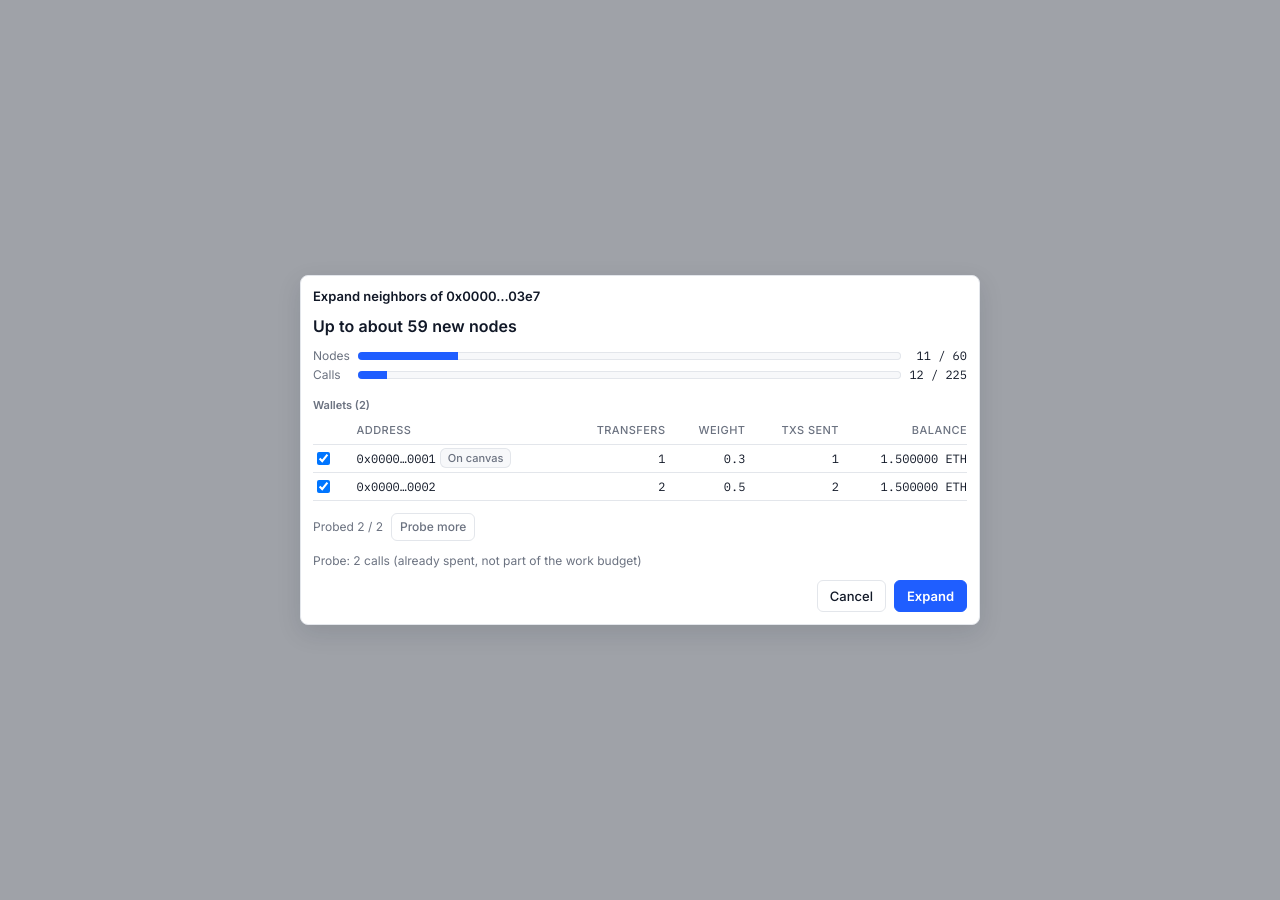
it: an 'up to about' line counts the checked addresses not on the canvas plus each one's first batch
The image size is (1280, 900).
Click the checkbox named "0x0000000000000000000000000000000000000001".
click(324, 458)  # box top-left (317, 452), bottom-right (330, 465)
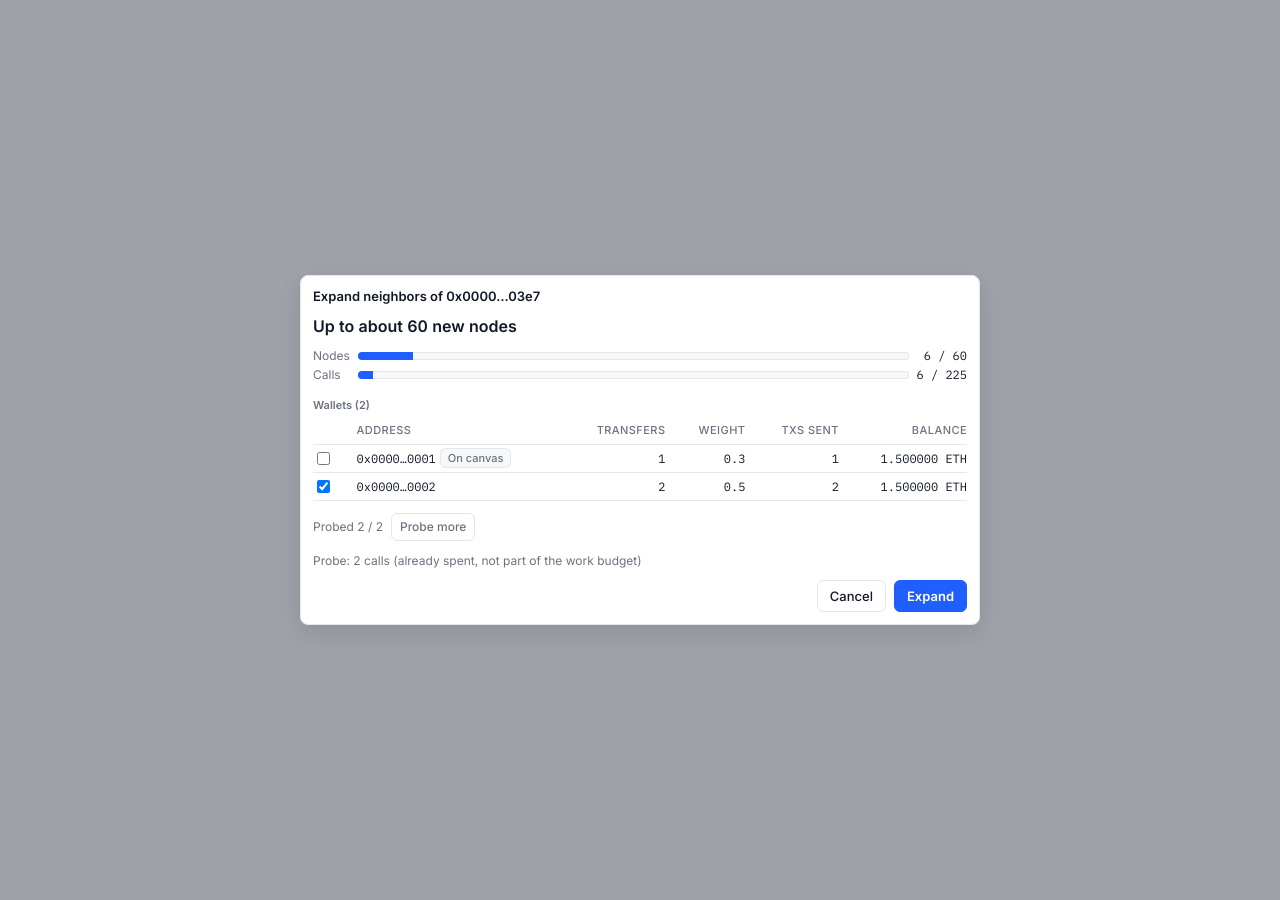
Click the checkbox named "0x0000000000000000000000000000000000000002".
click(324, 486)  # box top-left (317, 480), bottom-right (330, 493)
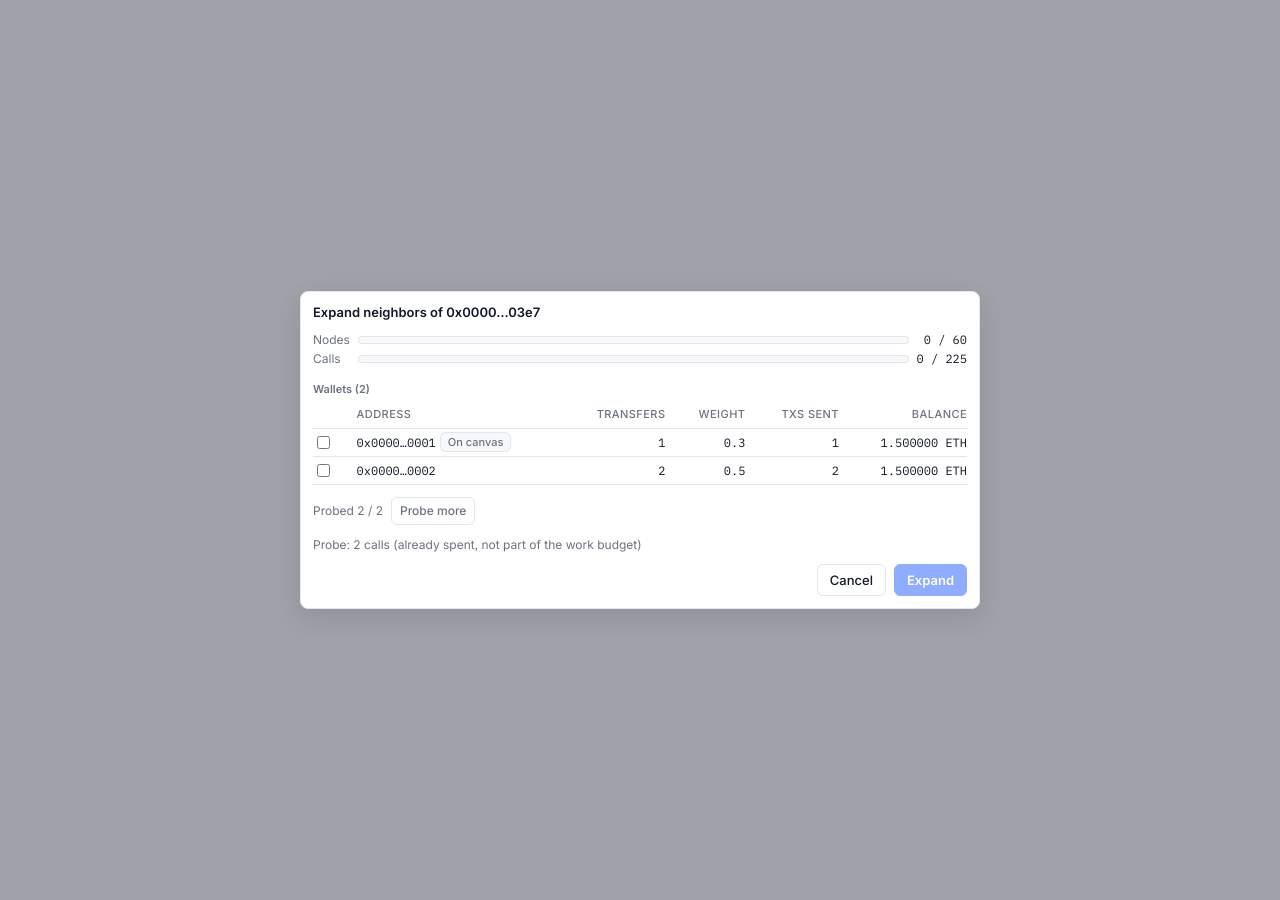
Now the text "Up to about" is gone
